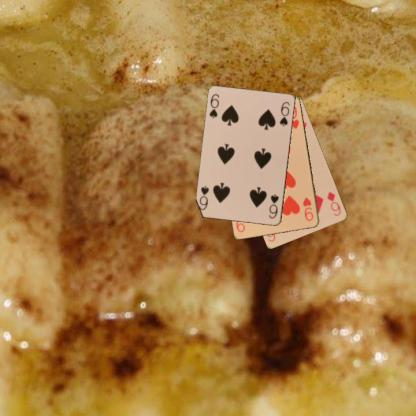6d: (325, 189, 342, 217)
6s: (266, 192, 281, 220), (207, 91, 221, 120)
9h: (300, 195, 315, 222)
